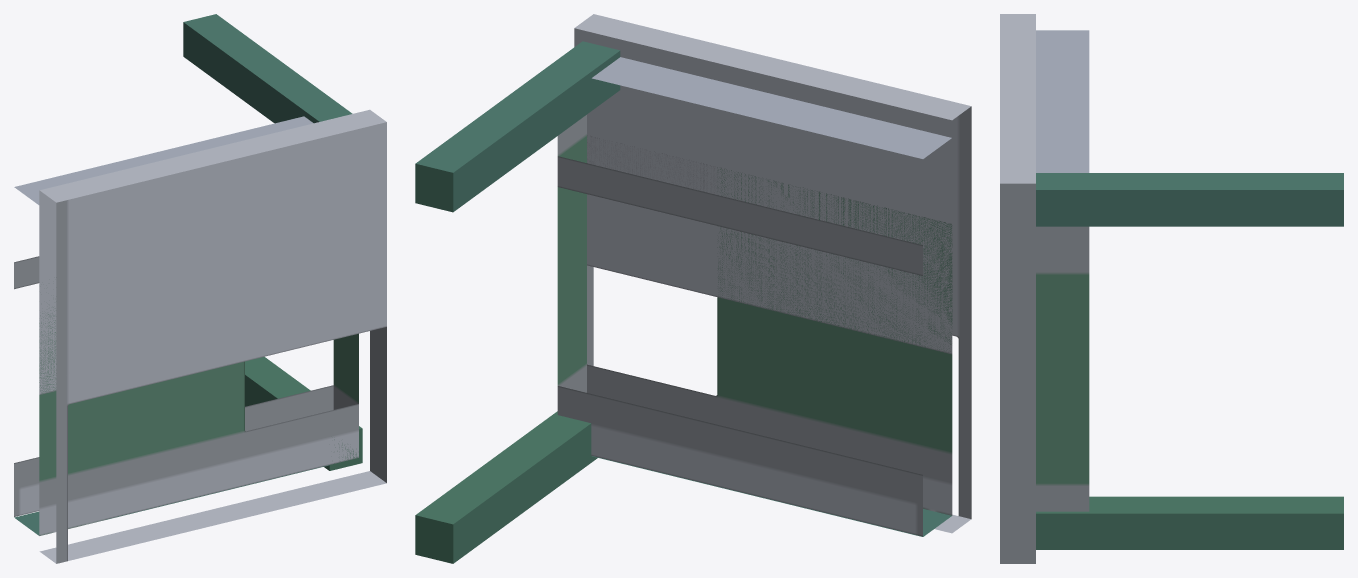
File: section-1.obj
The picture shows the model from 3 angles, left to right: view 1: azimuth 30°, elevation 25°; view 2: azimuth 150°, elevation 25°; view 3: azimuth 270°, elevation 25°; orthographic projection. The views are drawn at different scales.
Size of the model in its own units: 0.9 by 0.94 by 0.77.
